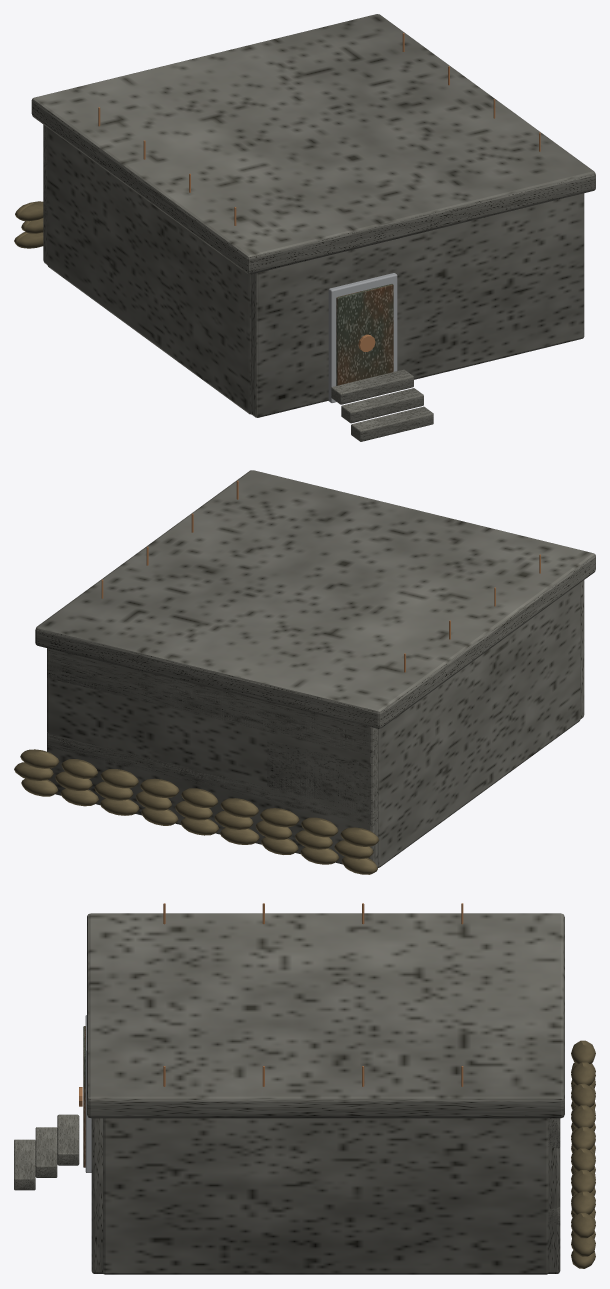
Rendered from bunker.glb.
3 views of the same model, one above another, from view 1: azimuth 30°, elevation 25°; view 2: azimuth 150°, elevation 25°; view 3: azimuth 270°, elevation 25° (orthographic). The views are drawn at different scales.
Parts seen in each view (by area): view 1: Roof, WallBack, WallSide_-1, BlastDoor, DoorFrame, Step_1, Step_2, Step_0; view 2: Roof, WallFront, WallSide_-1, EmbrasureLintel, EmbrasureL, EmbrasureSill, WallBack, Sandbag_2_2, Sandbag_2_8, Sandbag_2_5, Sandbag_2_3, Sandbag_2_0 (+6 smaller); view 3: Roof, WallSide_1, WallBack, WallFront, Step_0, Step_1, Step_2, DoorFrame, Sandbag_2_8.
Part boxes in pixels (x1,y1,x2,y2): Roof: (31, 14, 595, 274); WallBack: (251, 193, 584, 417); WallSide_-1: (47, 127, 251, 414); BlastDoor: (336, 284, 393, 385); DoorFrame: (328, 273, 397, 402); Step_1: (341, 388, 423, 423); Step_2: (351, 406, 433, 441); Step_0: (331, 369, 413, 404); Roof: (35, 470, 595, 728); WallFront: (47, 648, 377, 867); WallSide_-1: (377, 583, 580, 867); EmbrasureLintel: (47, 648, 377, 757); EmbrasureL: (267, 739, 377, 811); EmbrasureSill: (47, 732, 377, 826); WallBack: (580, 580, 584, 719); Sandbag_2_2: (260, 808, 299, 827); Sandbag_2_8: (20, 749, 59, 768); Sandbag_2_5: (140, 778, 179, 797); Sandbag_2_3: (220, 798, 258, 817); Sandbag_2_0: (340, 827, 378, 846); Roof: (87, 913, 564, 1118); WallSide_1: (103, 1118, 548, 1274); WallBack: (91, 1118, 103, 1273); WallFront: (548, 1118, 560, 1273); Step_0: (57, 1114, 79, 1165); Step_1: (35, 1127, 57, 1177); Step_2: (14, 1139, 35, 1190); DoorFrame: (85, 1015, 91, 1172); Sandbag_2_8: (571, 1213, 595, 1238).
Bounding box in the file's own units: 7.41 × 3.87 × 9.38.
Materials: 6 (4 with a texture image).
